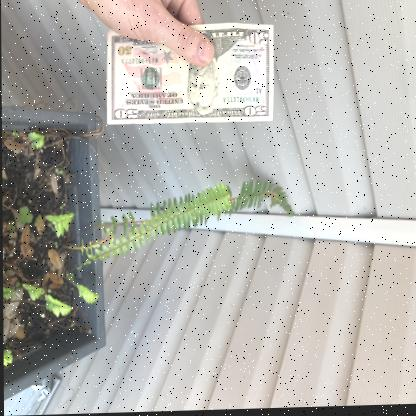fifty-front: (104, 24, 276, 123)
